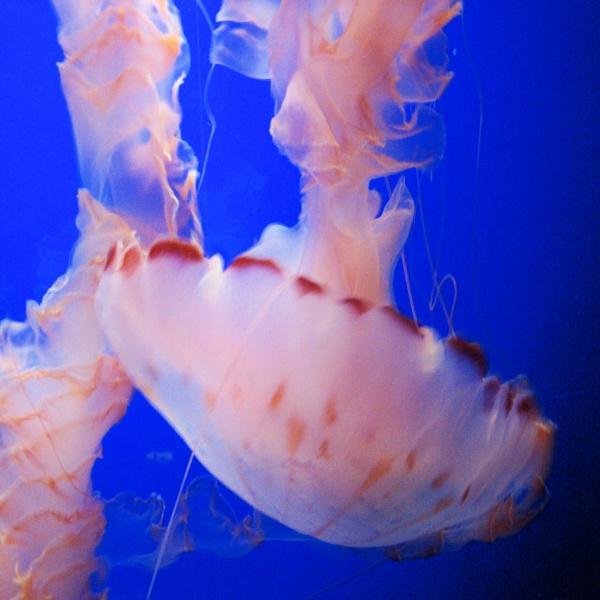Jellyfish: (91, 22, 551, 582)
